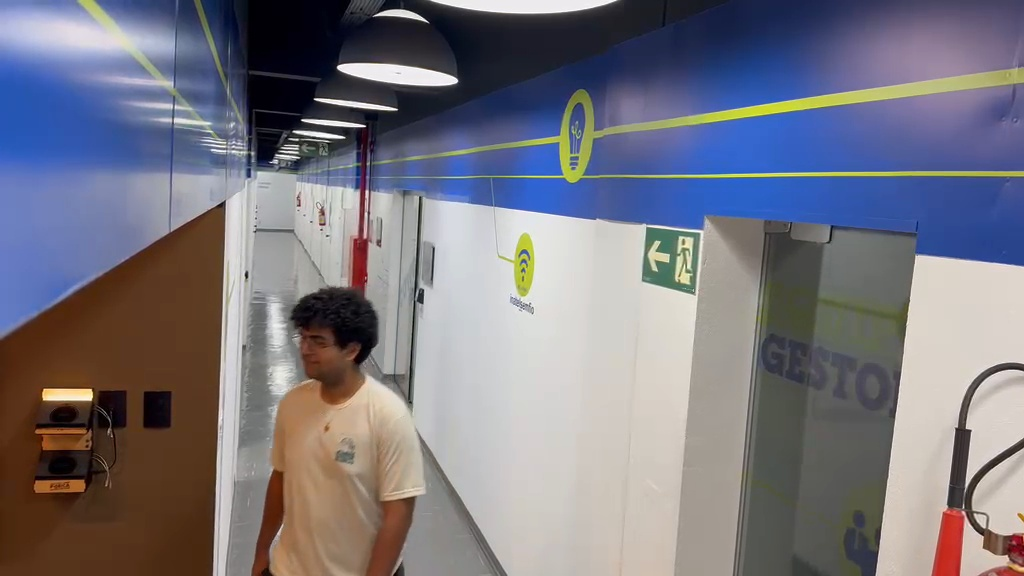person: (250, 285, 426, 573)
